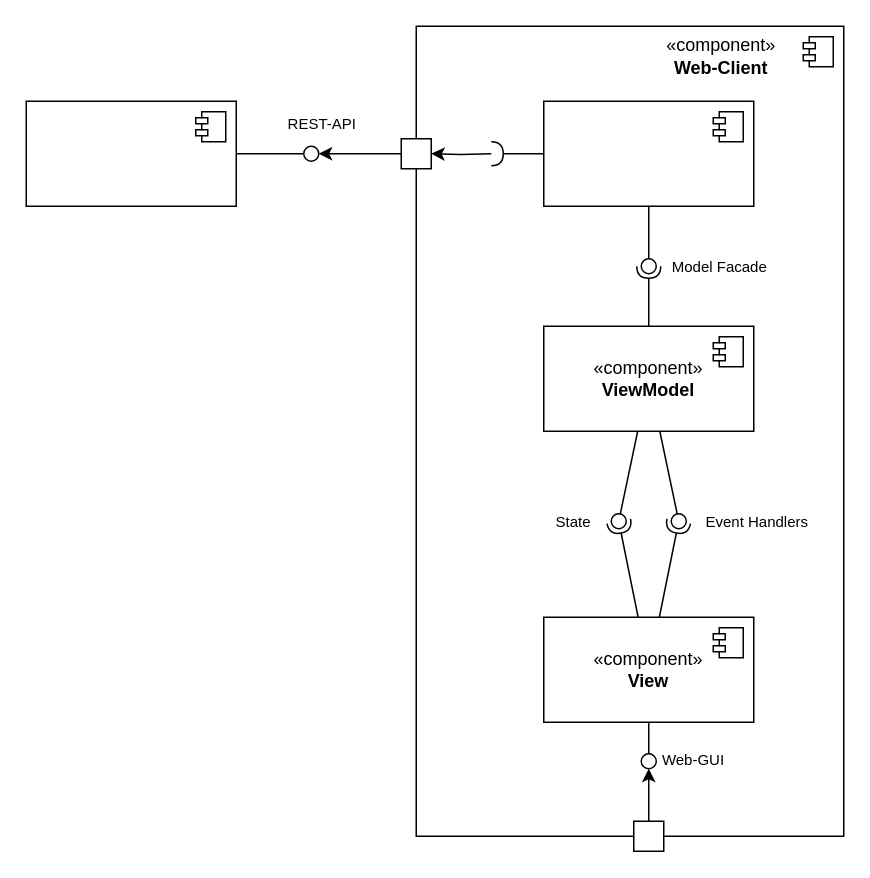
Some shapes in this 870 by 878 pixel diagram are drawn without their labels. The centre of each missing label's shape, as x and y in pixels:
"«component» Model" goes at [648,153].
"«component» Server" goes at [130,153].
